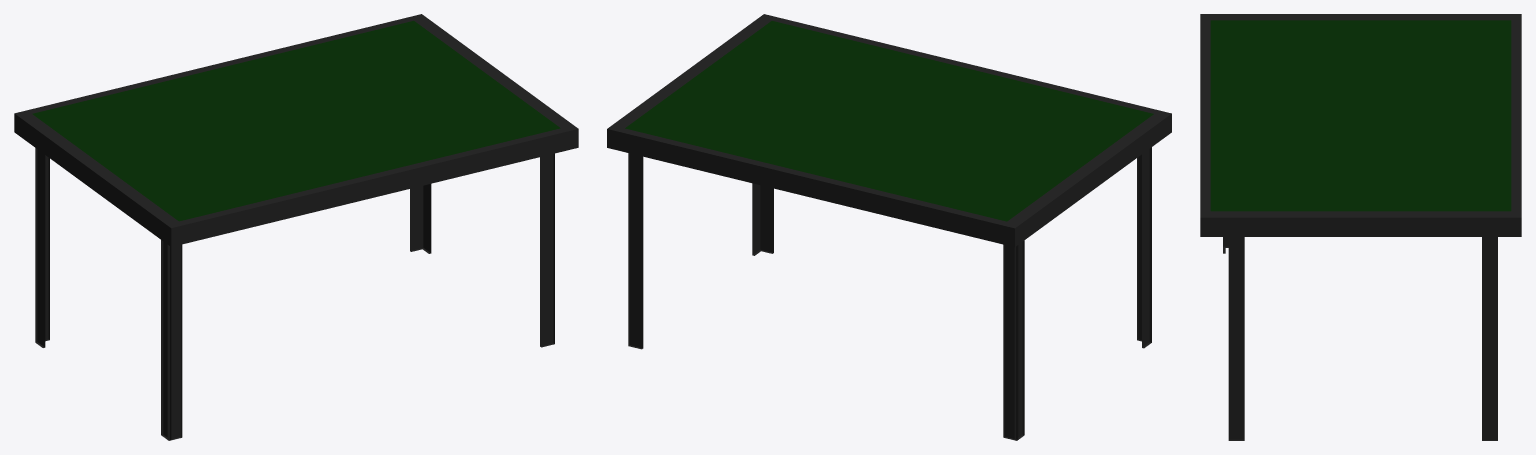
Rendered from MU Table.fbx.
The picture shows the model from 3 angles, left to right: view 1: azimuth 30°, elevation 25°; view 2: azimuth 150°, elevation 25°; view 3: azimuth 270°, elevation 25°; orthographic projection. The views are drawn at different scales.
Parts seen in each view (by area): view 1: Cube; view 2: Cube; view 3: Cube.
Boxes of the visible parts, x1,y1,x2,y2 form: Cube: [14, 14, 578, 440]; Cube: [607, 14, 1171, 440]; Cube: [1200, 14, 1521, 440].
Size of the model in its own units: 90 by 47.08 by 60.
